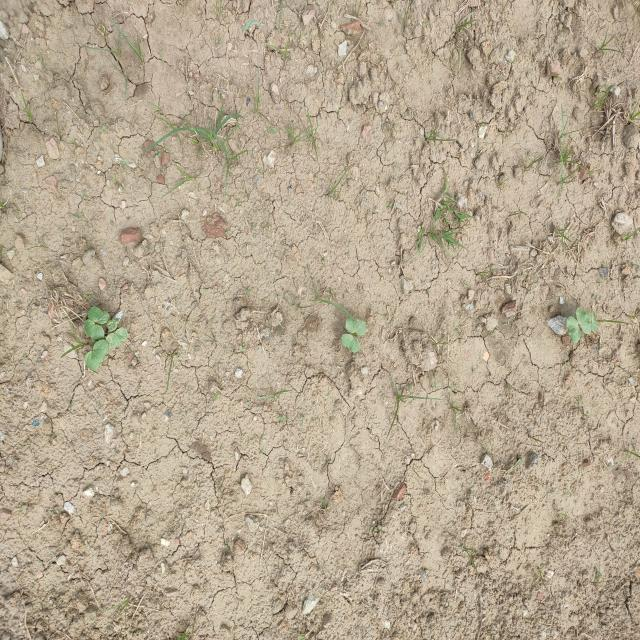seedling: (85, 340, 108, 370), (106, 328, 128, 348), (345, 317, 367, 335), (576, 308, 591, 334), (84, 320, 104, 339), (87, 307, 109, 324), (567, 316, 581, 342), (341, 334, 360, 353), (591, 312, 598, 332)
